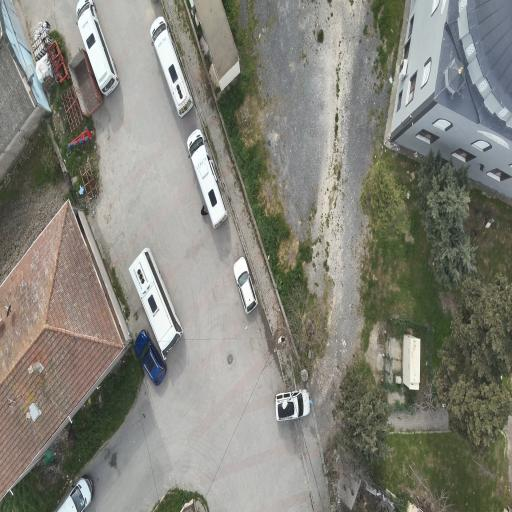car: (129, 248, 182, 359), (150, 17, 193, 118), (76, 0, 119, 95), (187, 129, 227, 228), (135, 330, 166, 385), (233, 257, 258, 313), (58, 476, 93, 511), (276, 389, 310, 420)
person: (201, 206, 208, 216)
